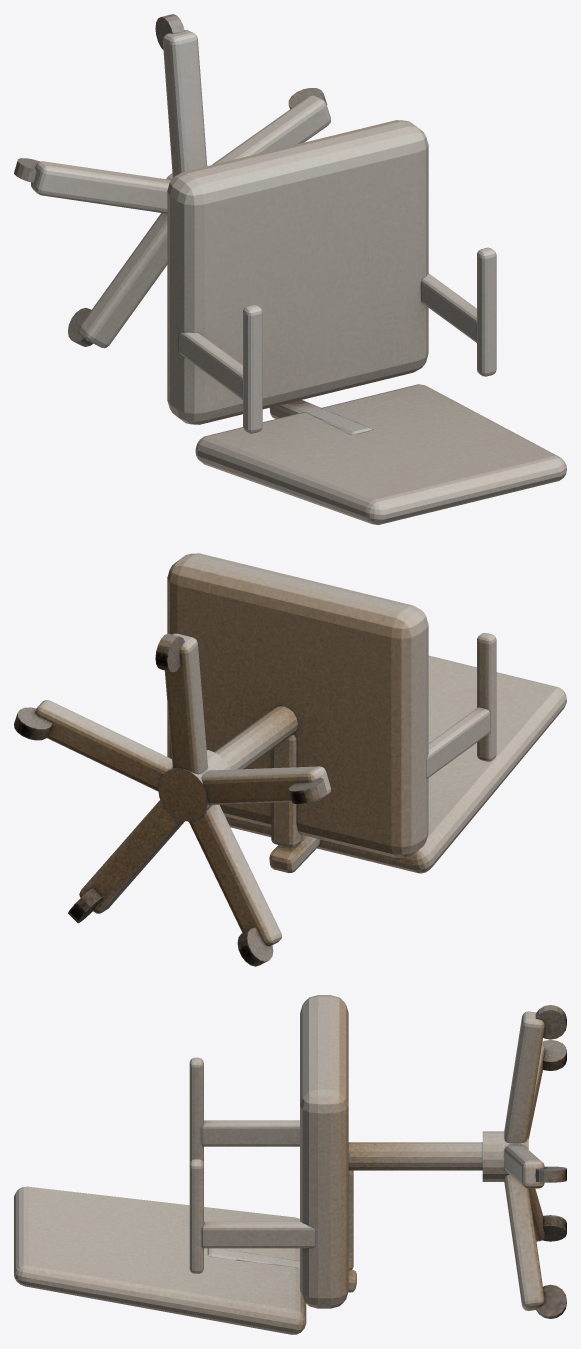
3 renders of one model, top to bottom at view 1: azimuth 30°, elevation 25°; view 2: azimuth 150°, elevation 25°; view 3: azimuth 270°, elevation 25°, orthographic. The views are drawn at different scales.
Parts seen in each view (by area): view 1: E2_final_4.001; view 2: E2_final_4.001; view 3: E2_final_4.001.
Part boxes in pixels (x1,y1,x2,y2): E2_final_4.001: (14,14,566,524); E2_final_4.001: (14,553,566,966); E2_final_4.001: (14,995,566,1334).
Size of the model in its own units: 0.6199 by 0.6085 by 1.08.
Materials: 1 (1 with a texture image).
